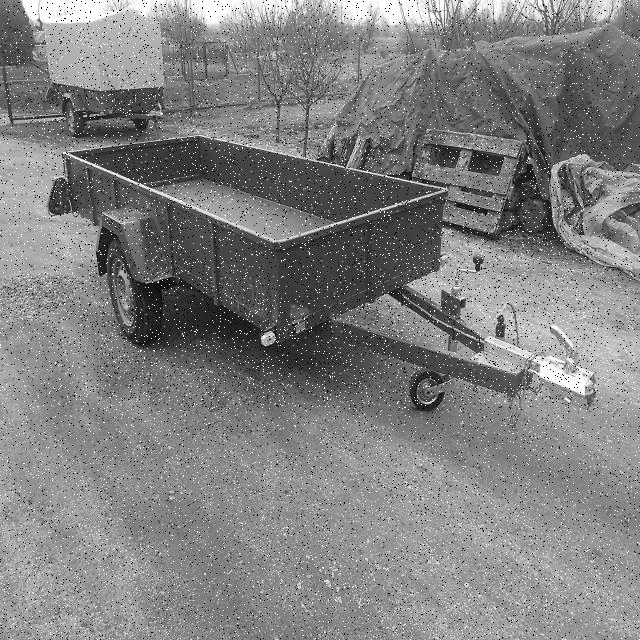Trailer: (49, 137, 598, 410), (46, 9, 164, 137)
